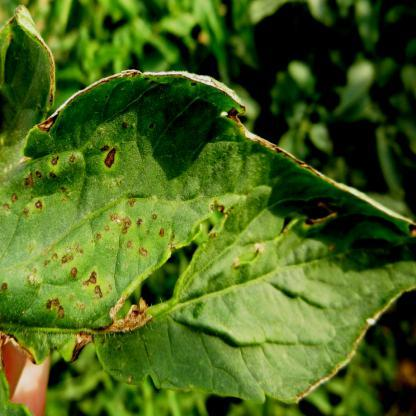Tomato leaf late blight: (7, 52, 409, 393)
